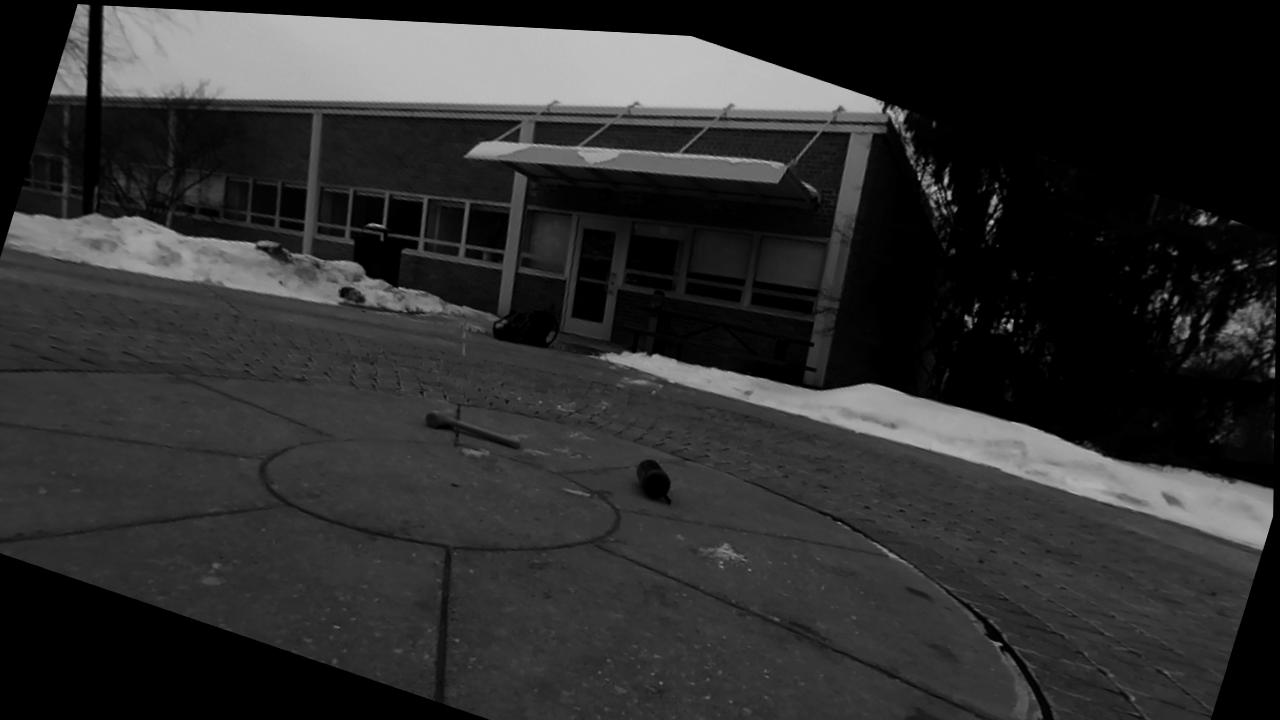bottle: (636, 461, 670, 502)
mallet: (426, 411, 520, 448)
